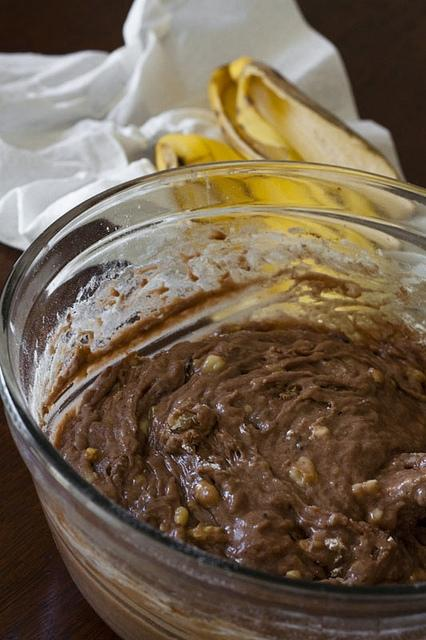banana: (154, 133, 356, 214)
